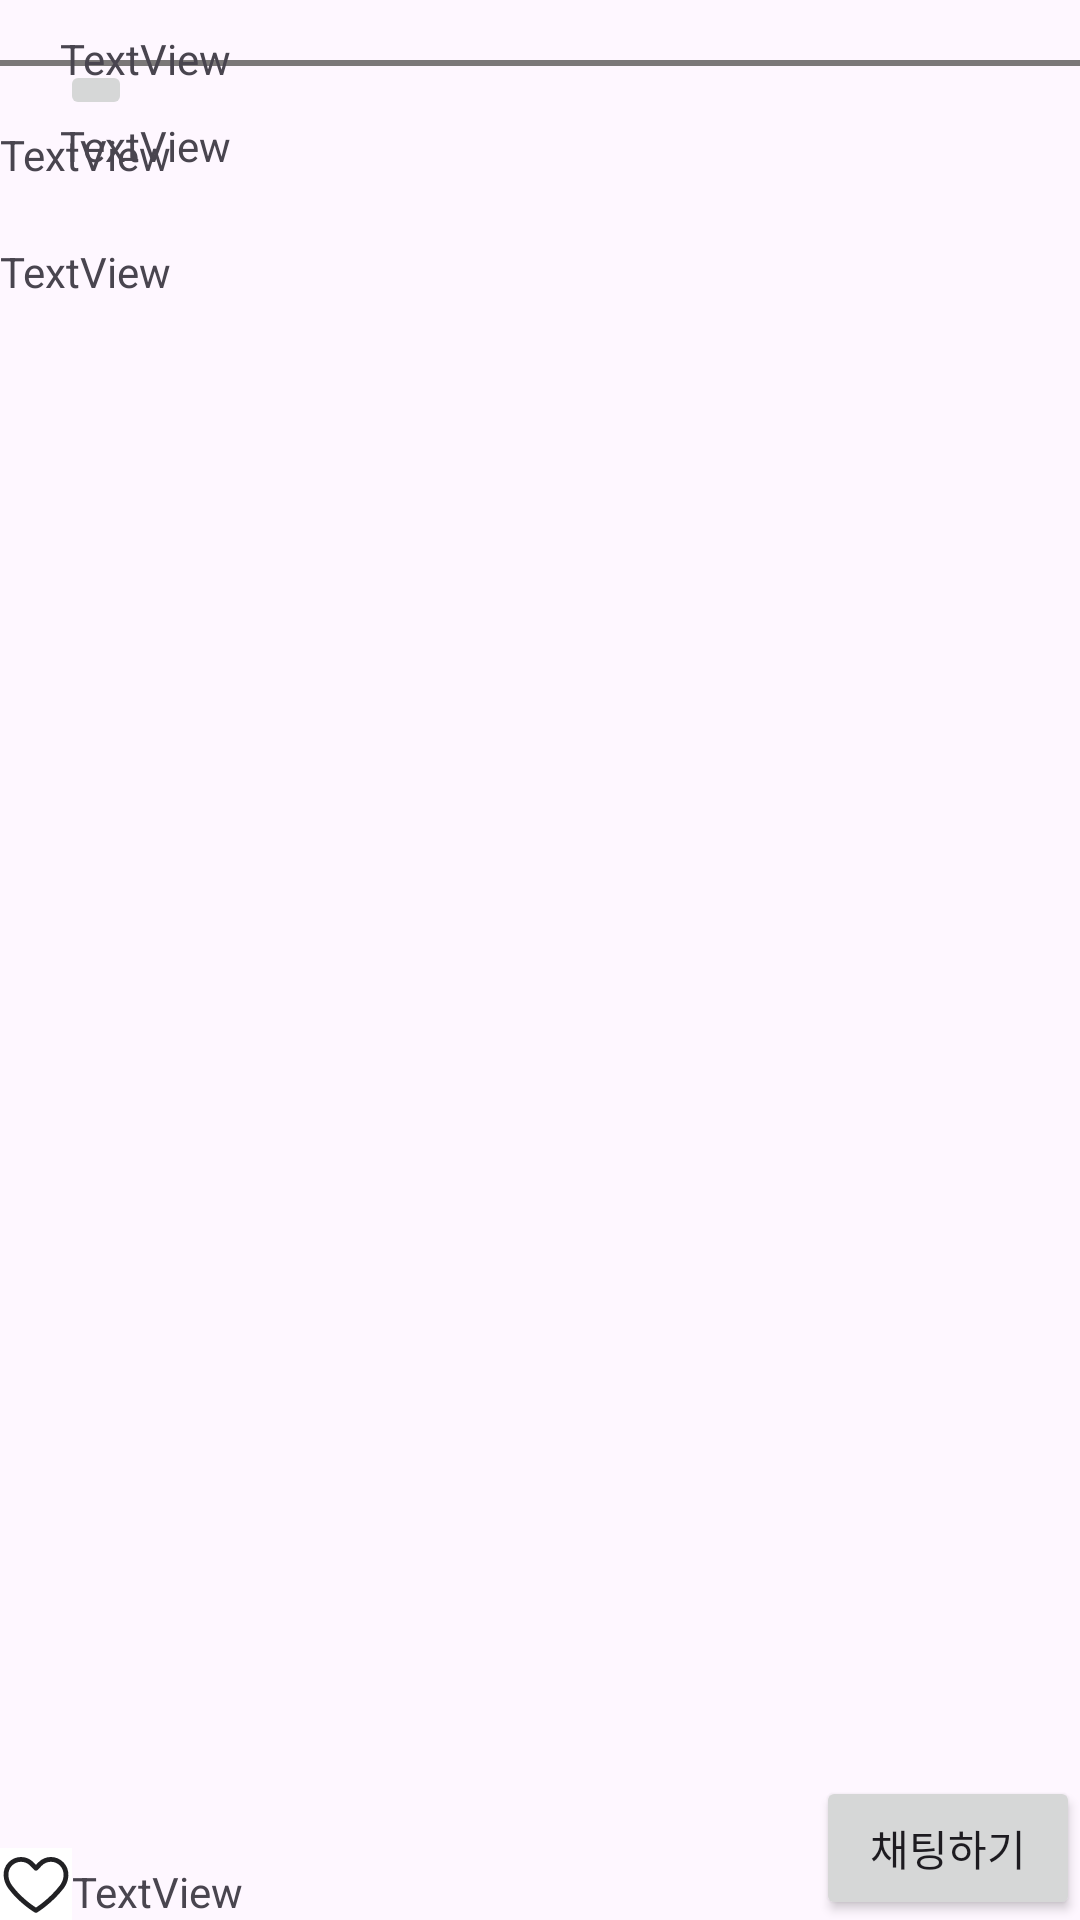

Where to tap for icons on this 1080w x 1920h app screen, as [x,y]:
like: [36,1885]
